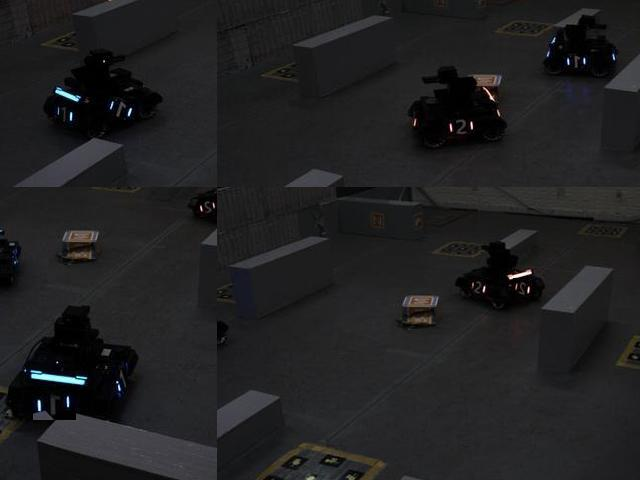armor: (33, 389, 77, 421), (107, 97, 139, 123), (112, 364, 133, 400), (49, 99, 75, 128), (443, 115, 480, 135), (467, 275, 489, 300), (565, 53, 591, 70), (198, 195, 216, 219), (513, 279, 533, 300)
